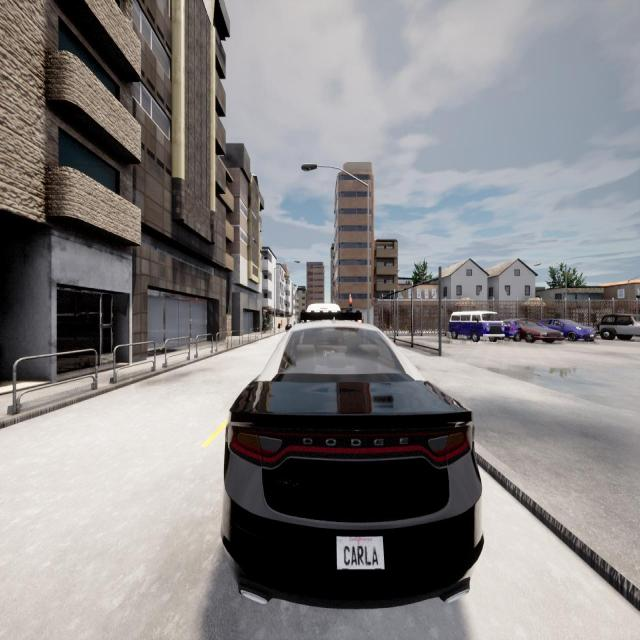Pedestrian: (262, 313, 268, 333)
Vehicle: (221, 320, 483, 607), (449, 311, 504, 341), (503, 319, 564, 342), (540, 319, 596, 341), (599, 314, 640, 340), (306, 304, 340, 312)
traffic_light: (349, 298, 352, 307)
